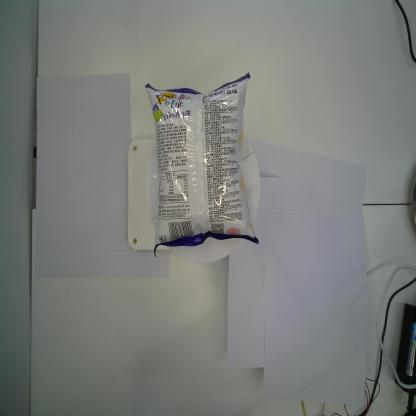Puffed Food: (147, 70, 259, 258)
